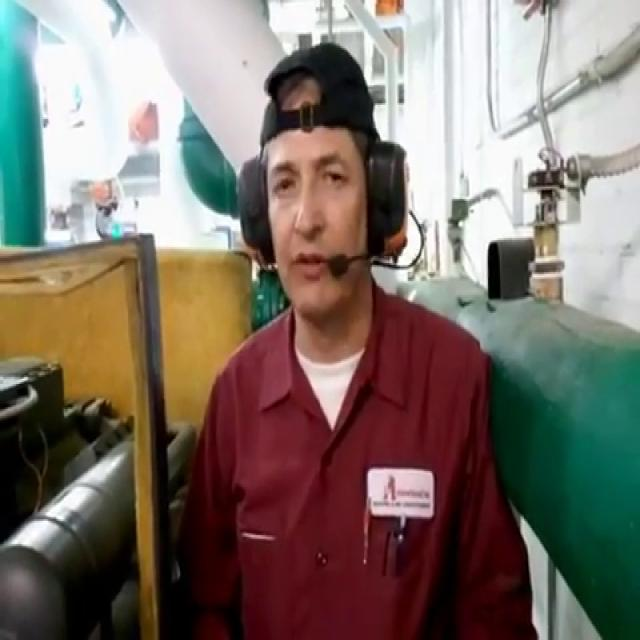earmuff: (360, 135, 413, 269), (234, 149, 281, 270)
